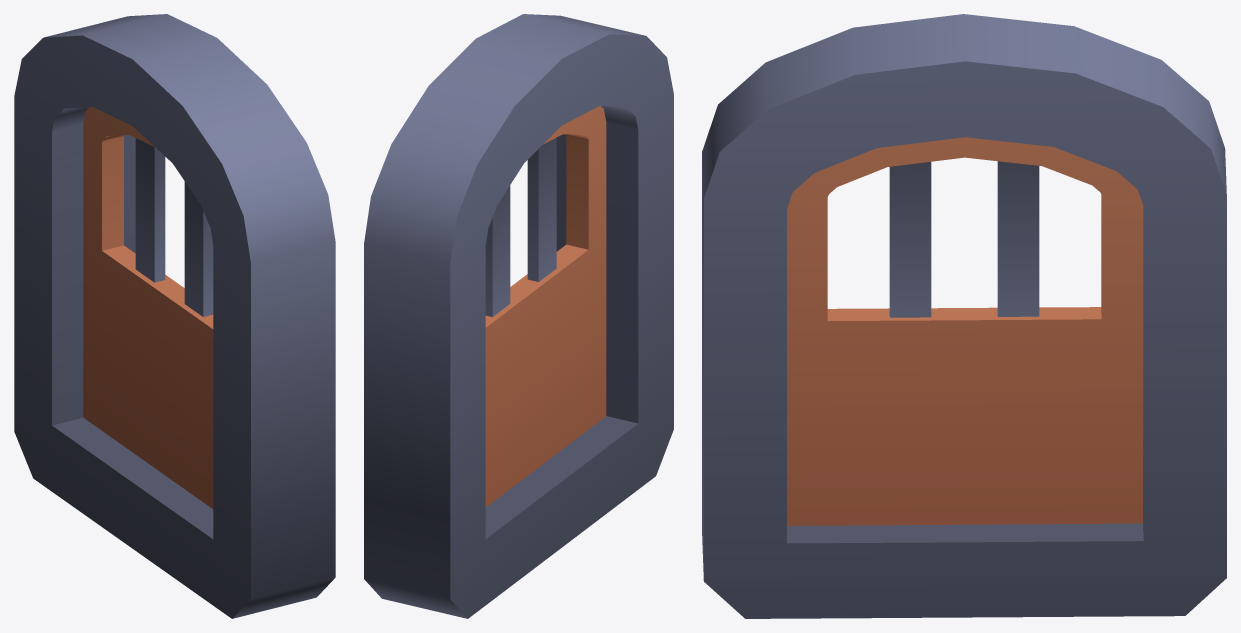
File: door.004_lev2.glb
3 views of the same model, side by side, from view 1: azimuth 30°, elevation 25°; view 2: azimuth 150°, elevation 25°; view 3: azimuth 270°, elevation 25° (orthographic). The views are drawn at different scales.
Parts seen in each view (by area): view 1: door.004_lev2; view 2: door.004_lev2; view 3: door.004_lev2.
Part boxes in pixels (bbox=[...]): door.004_lev2: bbox=[14, 14, 335, 618]; door.004_lev2: bbox=[364, 14, 673, 618]; door.004_lev2: bbox=[702, 14, 1226, 618].
Bounding box in the file's own units: 1.16 × 5.91 × 5.06.
1 material, 1 textured.
